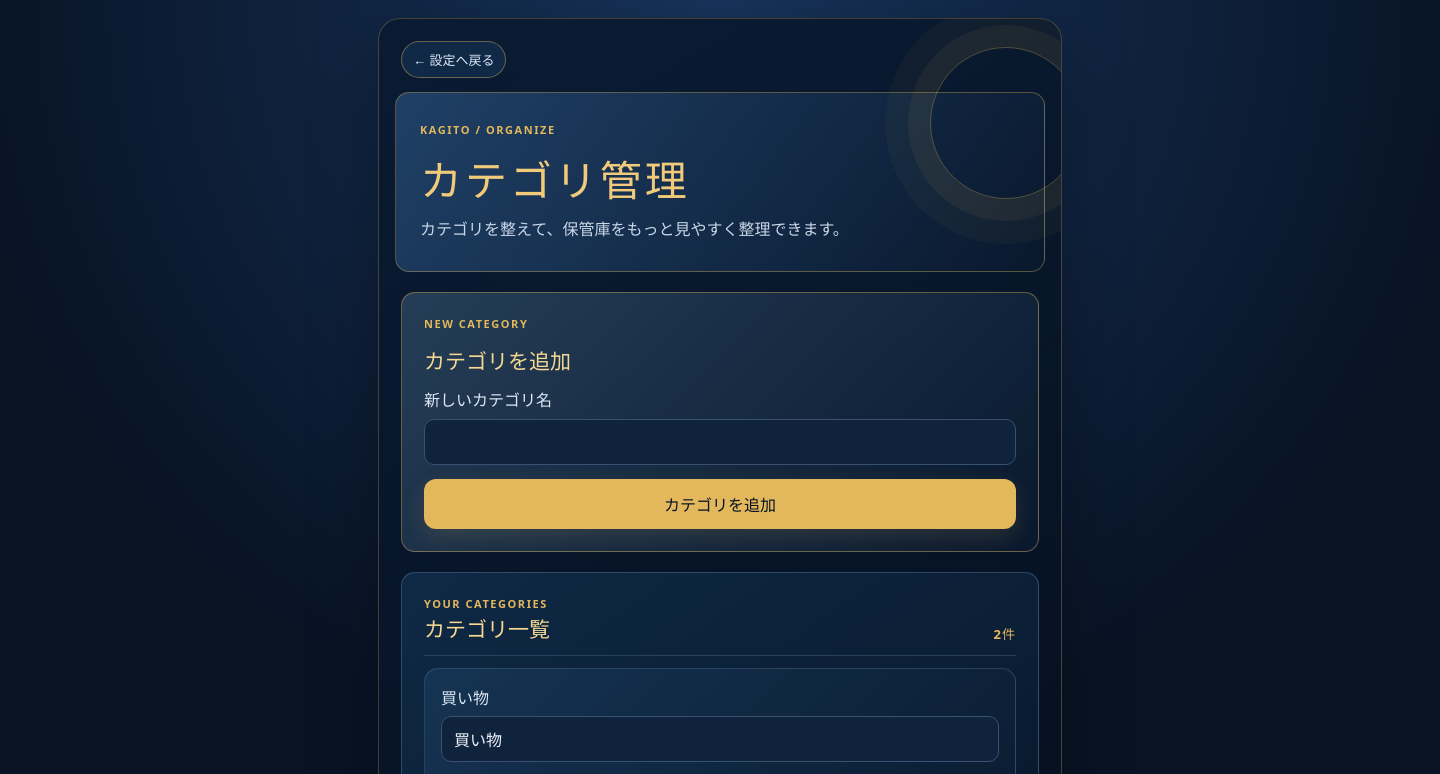
returns focus to the category name field when adding a category fails
In the field labelled "新しいカテゴリ名": (720,442) [424,419,1016,465], type "趣味"
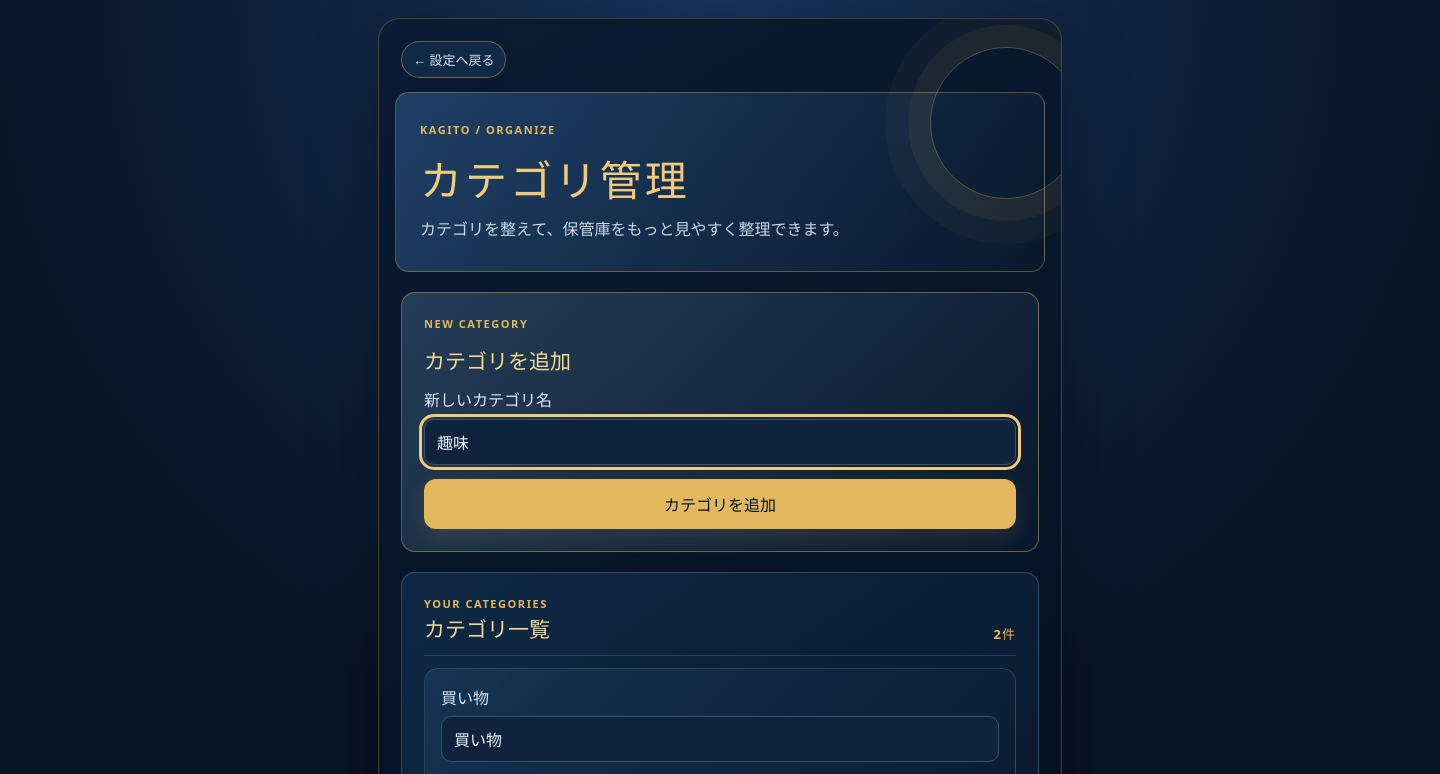
Click the button "カテゴリを追加": (720,504) [424,479,1016,529]
(page scrolled)
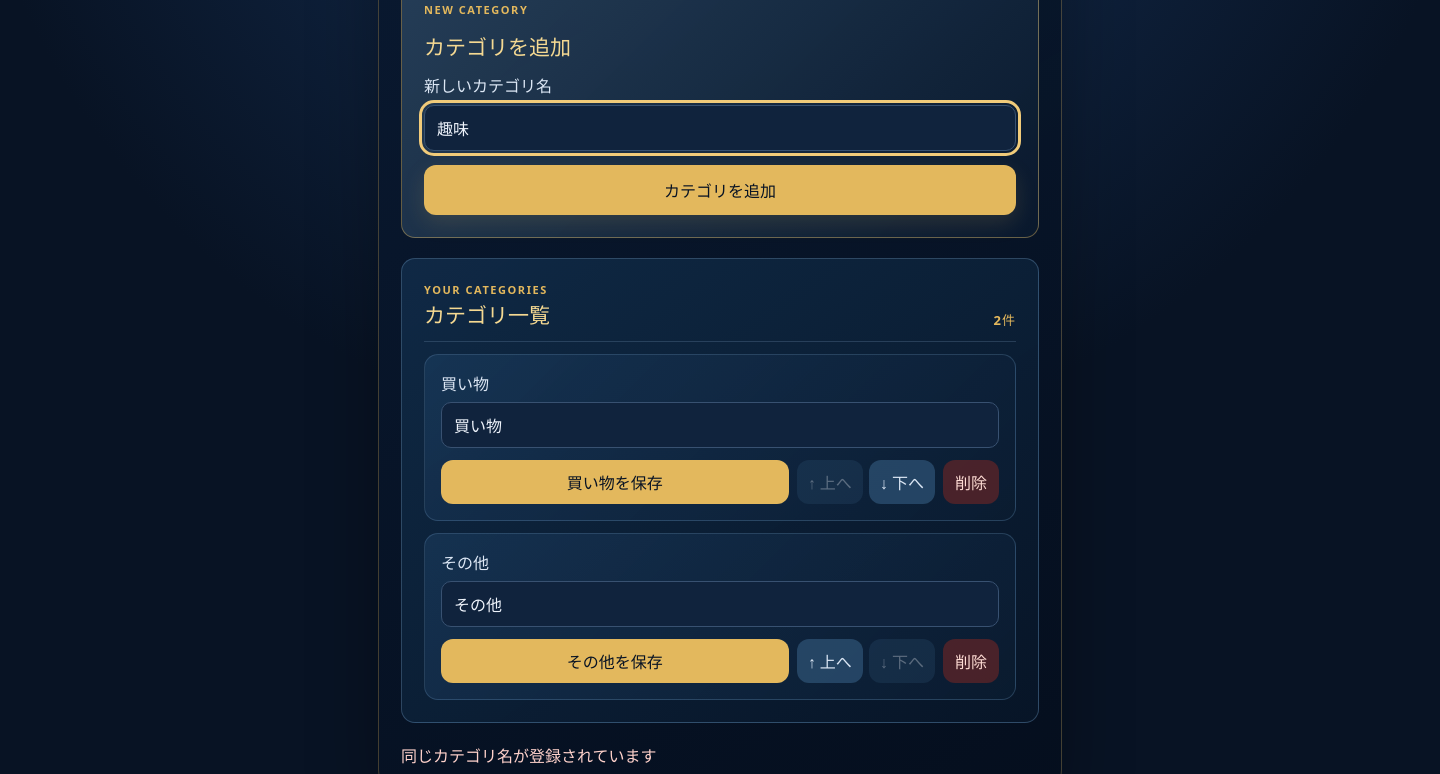
Now the message reads "同じカテゴリ名が登録されています", box [401,745,656,767]
